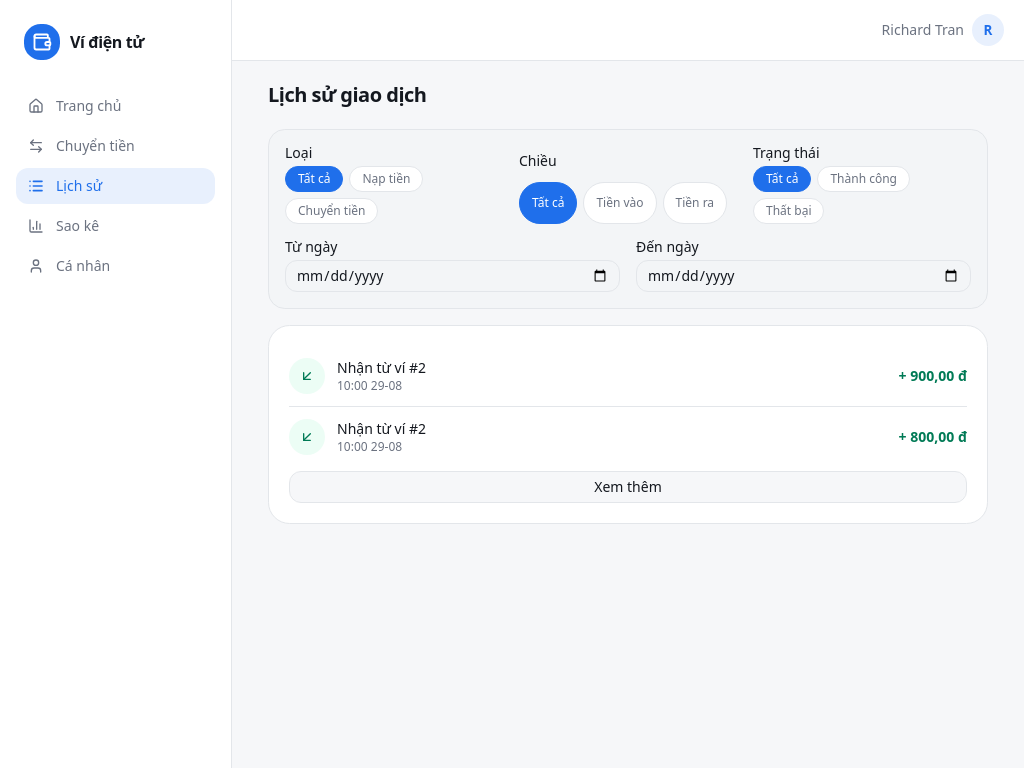
Test: phân trang lịch sử giao dịch › bấm "Xem thêm" thì NỐI trang 2 vào dưới, trang 1 vẫn còn nguyên
Expected: the text "+ 900,00 đ" is shown, [899,366,967,386]
Expected: the text "+ 800,00 đ" is shown, [899,427,967,447]
Click the button "Xem thêm".
click(628, 487)  # box [289,471,967,503]
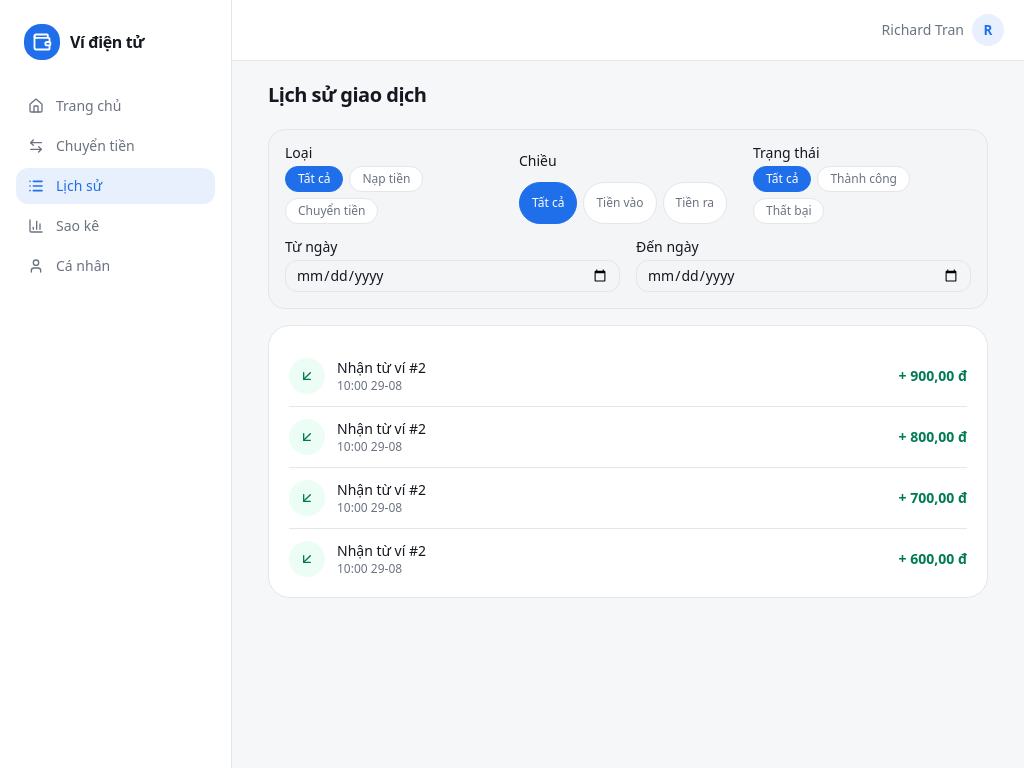
Expected: the text "+ 900,00 đ" is shown, [899,366,967,386]
Expected: the text "+ 700,00 đ" is shown, [899,488,967,508]
Expected: the text "+ 600,00 đ" is shown, [899,549,967,569]
